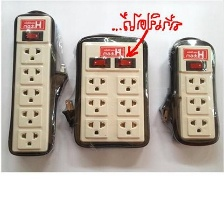three_eye_plug: (75, 39, 147, 145), (9, 13, 57, 154), (174, 41, 217, 143)
